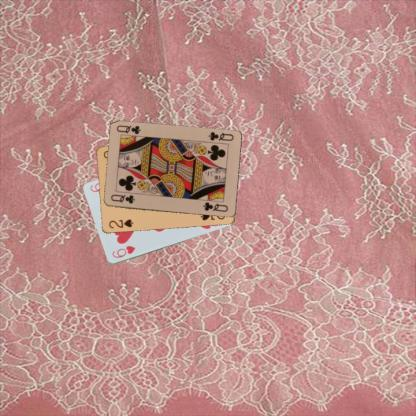2s: (106, 217, 134, 230)
6h: (110, 244, 136, 260)
Qc: (108, 192, 136, 205), (206, 130, 235, 142)
